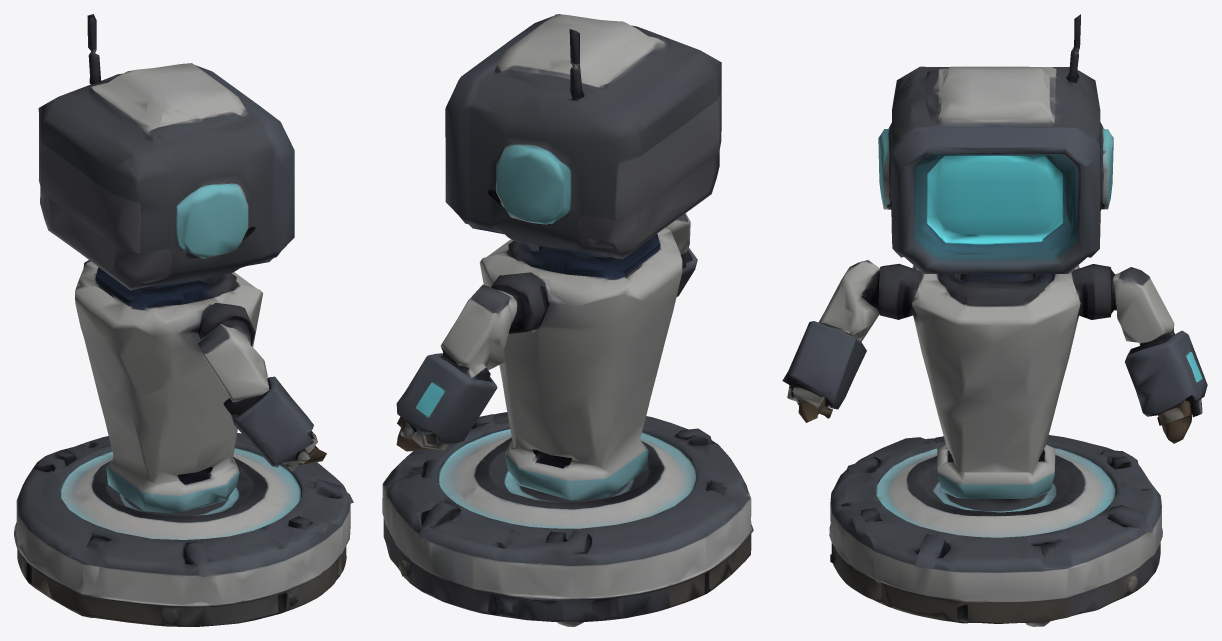
Rendered from guard.glb.
3 views of the same model, side by side, from view 1: azimuth 30°, elevation 25°; view 2: azimuth 150°, elevation 25°; view 3: azimuth 270°, elevation 25° (orthographic). The views are drawn at different scales.
Visible parts, largest first — view 1: tripo_node_66fb8986-e7a5-4e83-b54c-7cad6b622b95; view 2: tripo_node_66fb8986-e7a5-4e83-b54c-7cad6b622b95; view 3: tripo_node_66fb8986-e7a5-4e83-b54c-7cad6b622b95.
Boxes of the visible parts, x1,y1,x2,y2 form: tripo_node_66fb8986-e7a5-4e83-b54c-7cad6b622b95: [14, 14, 353, 626]; tripo_node_66fb8986-e7a5-4e83-b54c-7cad6b622b95: [382, 14, 753, 626]; tripo_node_66fb8986-e7a5-4e83-b54c-7cad6b622b95: [782, 14, 1207, 626].
Size of the model in its own units: 0.561 by 1 by 0.7257.
Materials: 1 (1 with a texture image).
